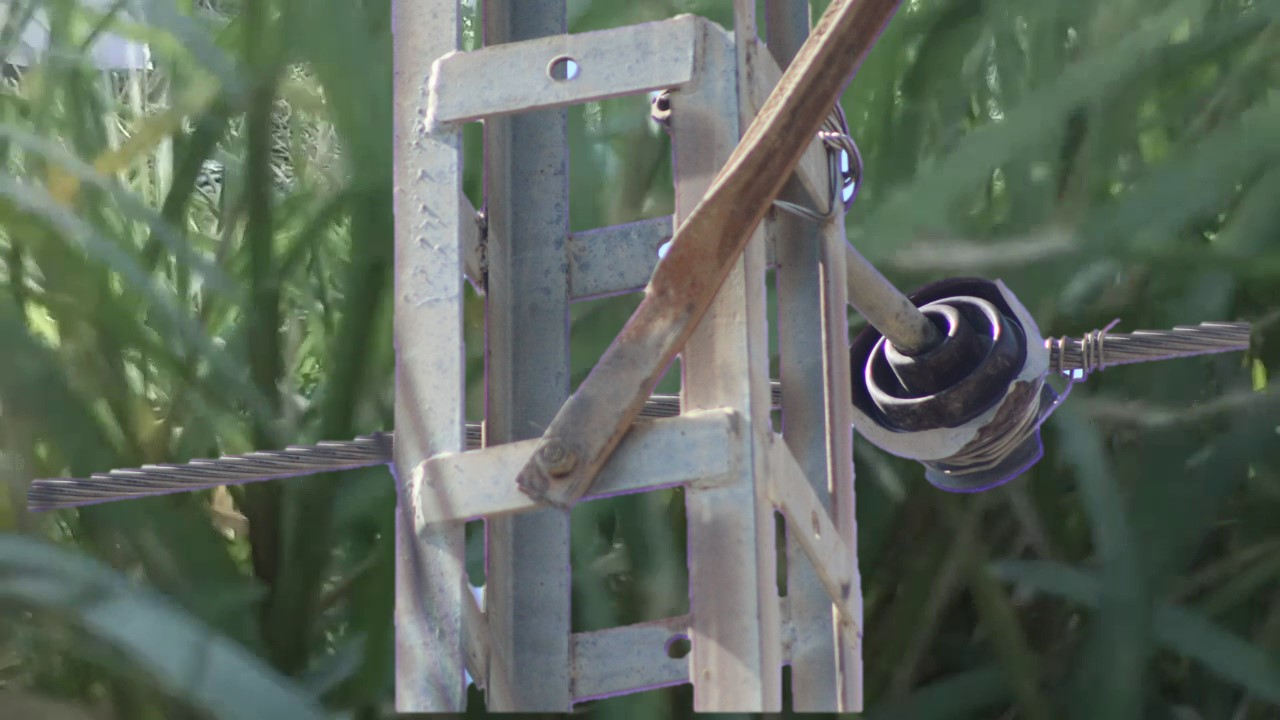defect_pin: (847, 270, 1073, 504)
